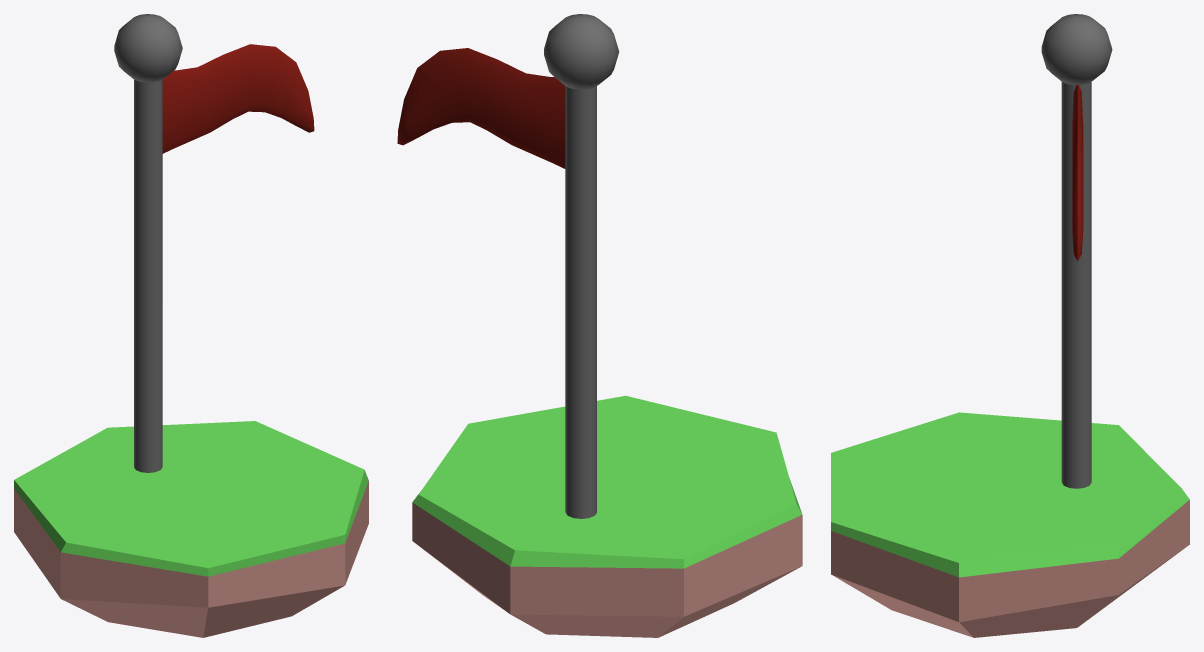
File: Goal_Platform.glb
The picture shows the model from 3 angles, left to right: view 1: azimuth 30°, elevation 25°; view 2: azimuth 150°, elevation 25°; view 3: azimuth 270°, elevation 25°; orthographic projection. The views are drawn at different scales.
Visible parts, largest first — view 1: GrassPlatform_Cylinder.001, Goal_Flag; view 2: GrassPlatform_Cylinder.001, Goal_Flag; view 3: GrassPlatform_Cylinder.001, Goal_Flag.
Part boxes in pixels (left/top/right/bottom): GrassPlatform_Cylinder.001: left=14, top=421, right=368, bottom=637; Goal_Flag: left=114, top=14, right=314, bottom=472; GrassPlatform_Cylinder.001: left=412, top=395, right=802, bottom=637; Goal_Flag: left=397, top=14, right=619, bottom=518; GrassPlatform_Cylinder.001: left=831, top=412, right=1189, bottom=637; Goal_Flag: left=1041, top=14, right=1112, bottom=488.
Bounding box in the file's own units: 0.6389 × 1.07 × 0.6171.
